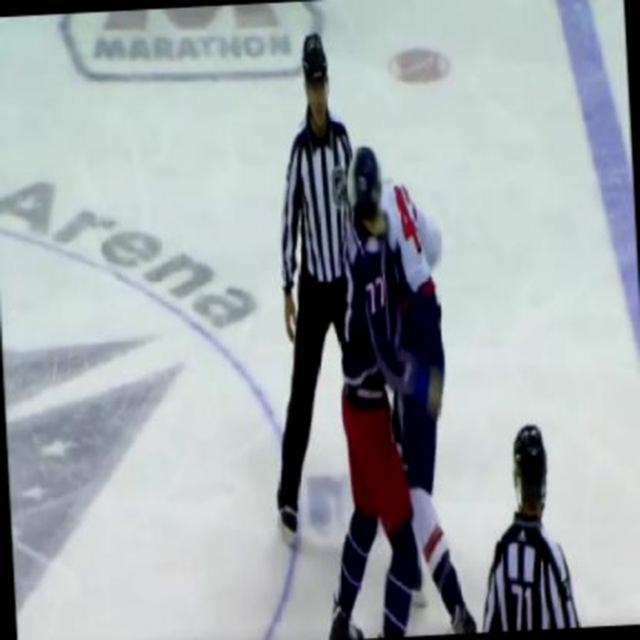fight: (328, 145, 460, 638)
